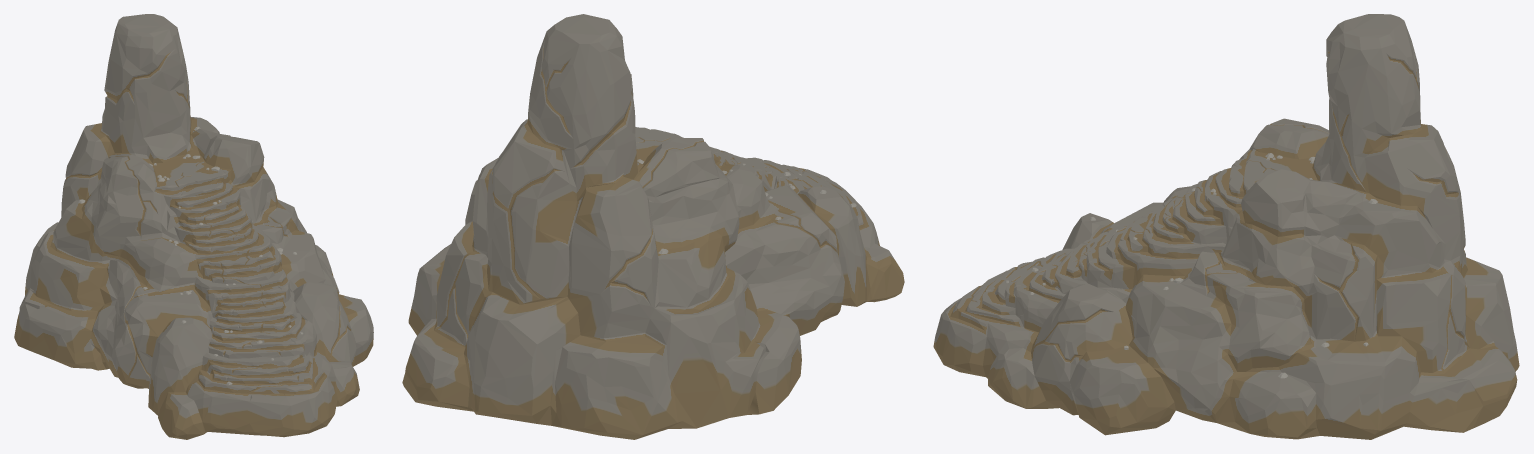
The model's file is SM_Prop_Portal_01.gltf.
3 views of the same model, side by side, from view 1: azimuth 30°, elevation 25°; view 2: azimuth 150°, elevation 25°; view 3: azimuth 270°, elevation 25° (orthographic). The views are drawn at different scales.
Visible parts, largest first — view 1: SM_Prop_Portal_01; view 2: SM_Prop_Portal_01; view 3: SM_Prop_Portal_01.
Boxes of the visible parts, <box> form: SM_Prop_Portal_01: <box>14,14,373,439</box>; SM_Prop_Portal_01: <box>402,14,904,439</box>; SM_Prop_Portal_01: <box>933,14,1519,439</box>.
Bounding box in the file's own units: 12.23 × 11.7 × 17.67.
Materials: 1 (1 with a texture image).
